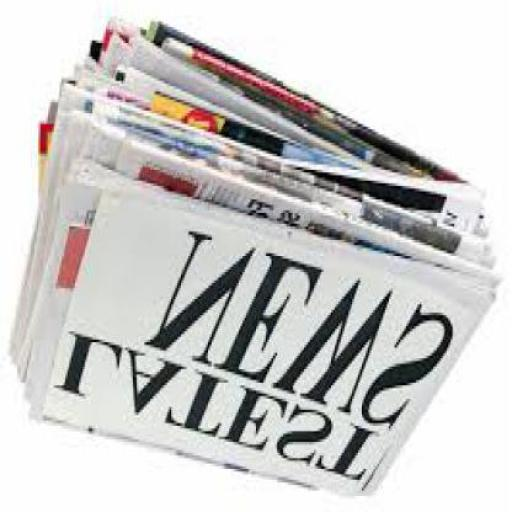paper: (25, 162, 493, 498), (8, 137, 490, 380), (36, 108, 462, 207), (72, 30, 280, 81), (58, 88, 306, 110)
